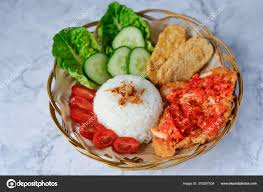ayam_geprek: (164, 63, 240, 152)
